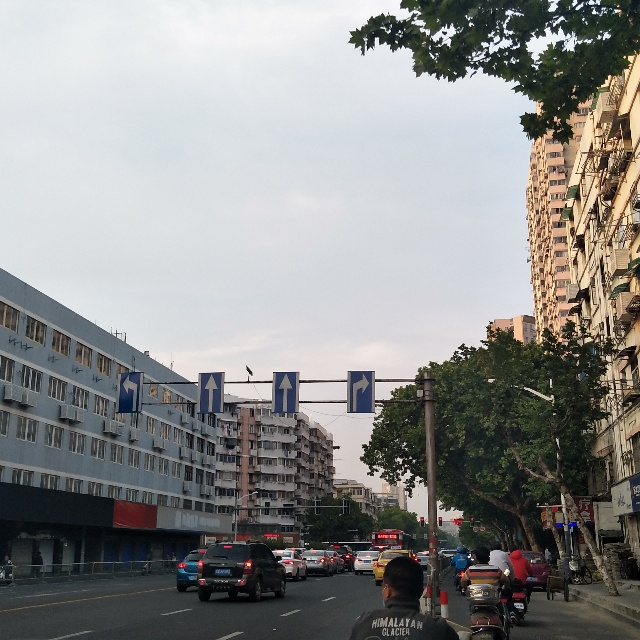left: (119, 373, 142, 412)
right: (350, 370, 372, 414)
straight: (274, 371, 298, 413), (199, 373, 222, 415)
